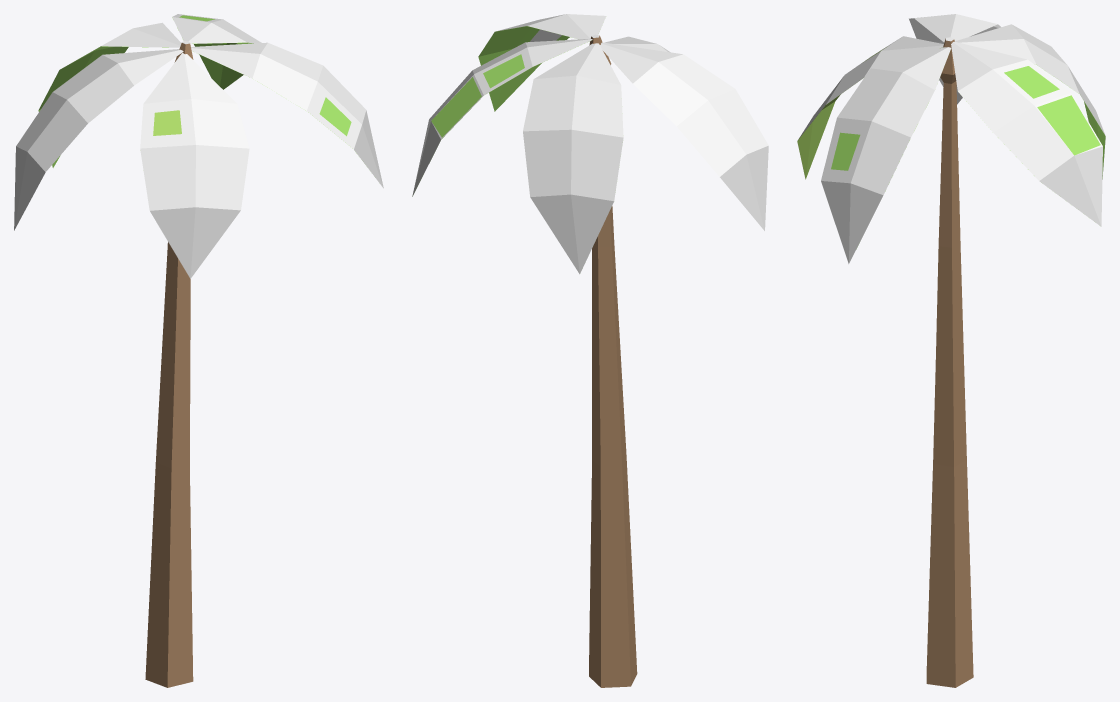
The model's file is Palm_Tree_s_Snow_01.fbx.
The picture shows the model from 3 angles, left to right: view 1: azimuth 30°, elevation 25°; view 2: azimuth 150°, elevation 25°; view 3: azimuth 270°, elevation 25°; orthographic projection. The views are drawn at different scales.
Visible parts, largest first — view 1: Palm_Tree_s_Snow_01; view 2: Palm_Tree_s_Snow_01; view 3: Palm_Tree_s_Snow_01.
Part boxes in pixels (x1=…): Palm_Tree_s_Snow_01: x1=14, y1=14, x2=383, y2=687; Palm_Tree_s_Snow_01: x1=412, y1=14, x2=768, y2=687; Palm_Tree_s_Snow_01: x1=797, y1=14, x2=1105, y2=687.
Size of the model in its own units: 246 by 465 by 201.
